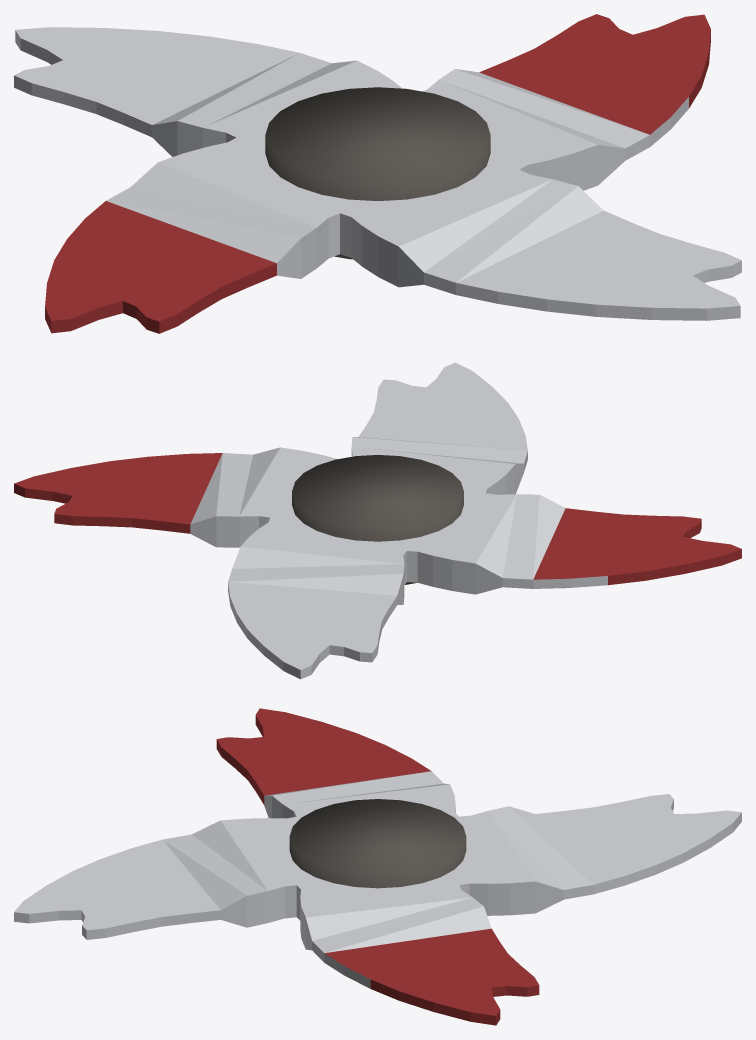
The model's file is shuriken.glb.
3 renders of one model, top to bottom at view 1: azimuth 30°, elevation 25°; view 2: azimuth 150°, elevation 25°; view 3: azimuth 270°, elevation 25°, orthographic. The views are drawn at different scales.
Parts seen in each view (by area): view 1: shuriken; view 2: shuriken; view 3: shuriken.
Part boxes in pixels (x1,y1,x2,y2): shuriken: (14, 14, 741, 333); shuriken: (14, 362, 741, 679); shuriken: (14, 708, 741, 1025).
Size of the model in its own units: 0.4945 by 0.046 by 0.4945.
